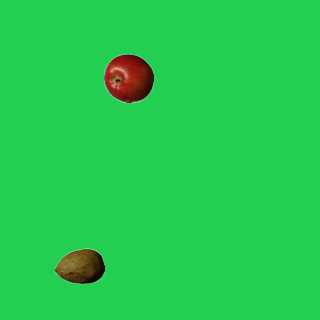Apple Braeburn: (103, 53, 153, 103)
Papaya: (54, 241, 104, 291)
